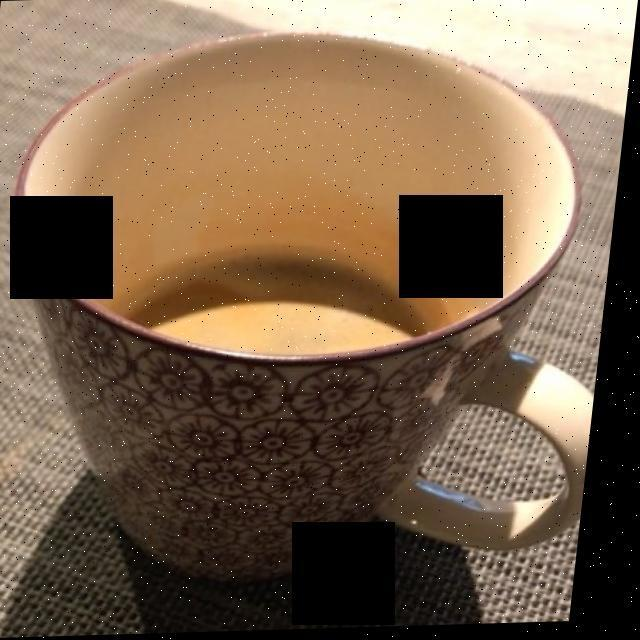coffee: (130, 251, 441, 365)
